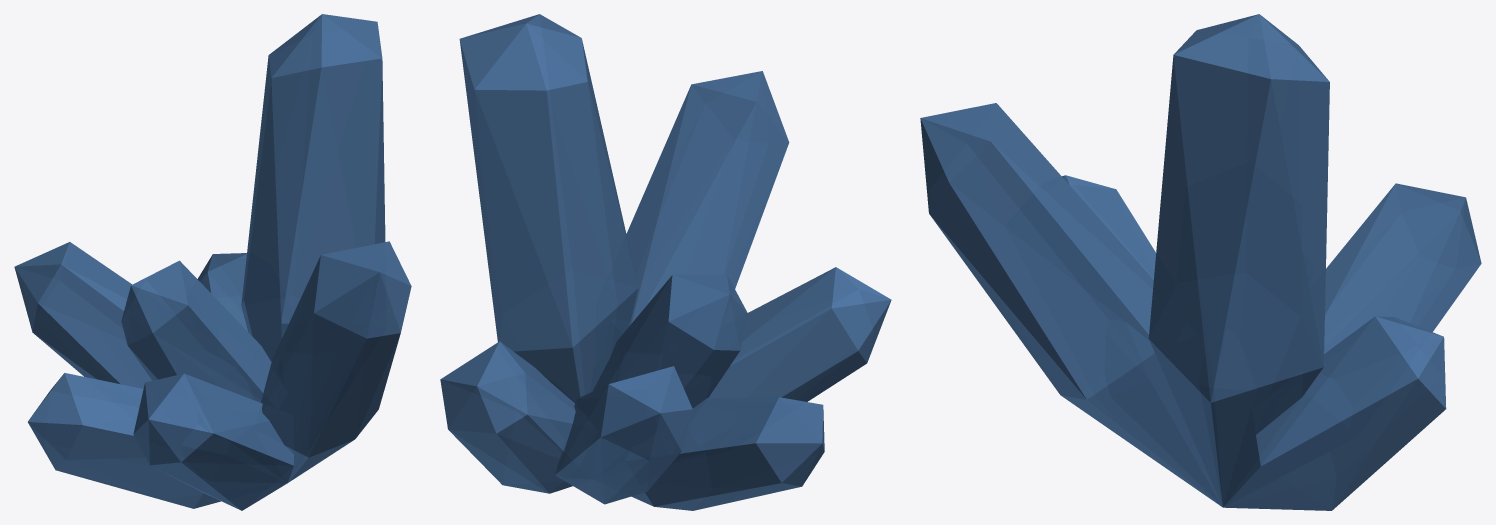
File: blue_crystal.fbx
The picture shows the model from 3 angles, left to right: view 1: azimuth 30°, elevation 25°; view 2: azimuth 150°, elevation 25°; view 3: azimuth 270°, elevation 25°; orthographic projection. The views are drawn at different scales.
Visible parts, largest first — view 1: pCylinder57; view 2: pCylinder57; view 3: pCylinder57.
Boxes of the visible parts, left/top/right/bottom form: pCylinder57: left=14, top=14, right=411, bottom=510; pCylinder57: left=440, top=14, right=891, bottom=510; pCylinder57: left=920, top=14, right=1481, bottom=510.
Bounding box in the file's own units: 4.2 × 5.07 × 4.94.
